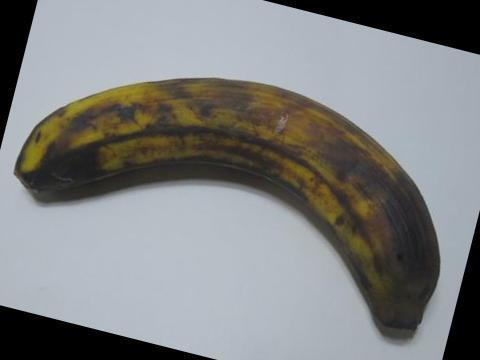overripe: (6, 61, 452, 339)
rotten: (359, 179, 446, 339)
